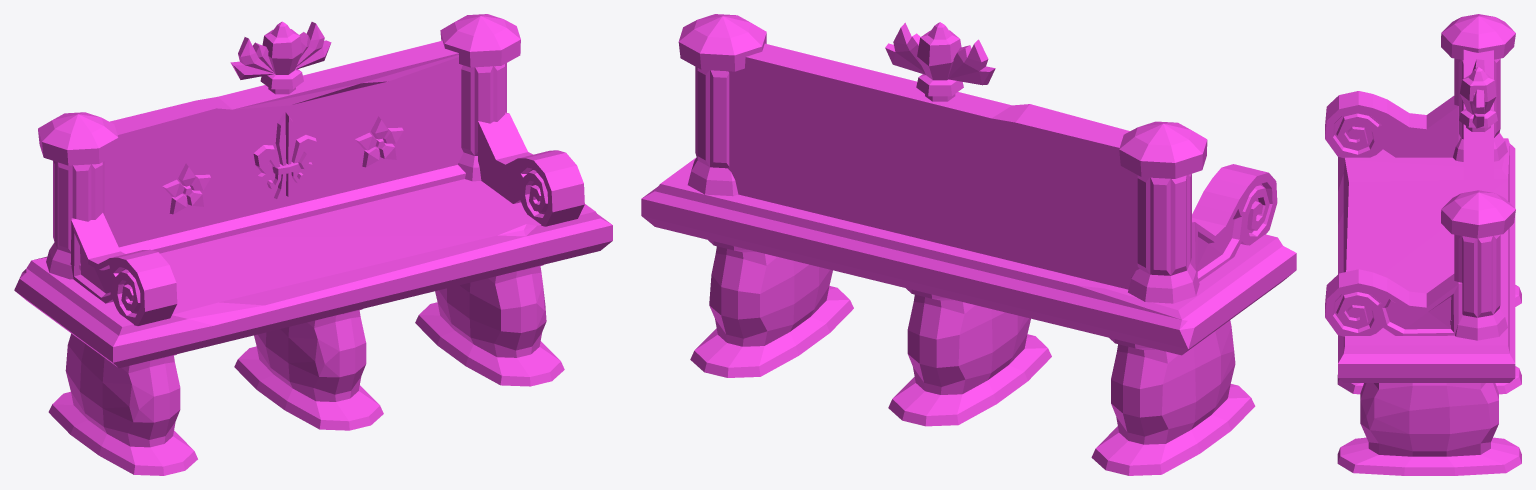
Rendered from SM_Bench_Stone_Fancy_B_Fantasy.fbx.
3 views of the same model, side by side, from view 1: azimuth 30°, elevation 25°; view 2: azimuth 150°, elevation 25°; view 3: azimuth 270°, elevation 25° (orthographic). The views are drawn at different scales.
Parts seen in each view (by area): view 1: SM_Bench_Stone_Fancy_B_Fantasy; view 2: SM_Bench_Stone_Fancy_B_Fantasy; view 3: SM_Bench_Stone_Fancy_B_Fantasy.
Boxes of the visible parts, x1=… form: SM_Bench_Stone_Fancy_B_Fantasy: x1=14, y1=14, x2=612, y2=475; SM_Bench_Stone_Fancy_B_Fantasy: x1=641, y1=14, x2=1296, y2=475; SM_Bench_Stone_Fancy_B_Fantasy: x1=1325, y1=14, x2=1521, y2=475.
Bounding box in the file's own units: 1.8 × 1.2 × 0.6841.
